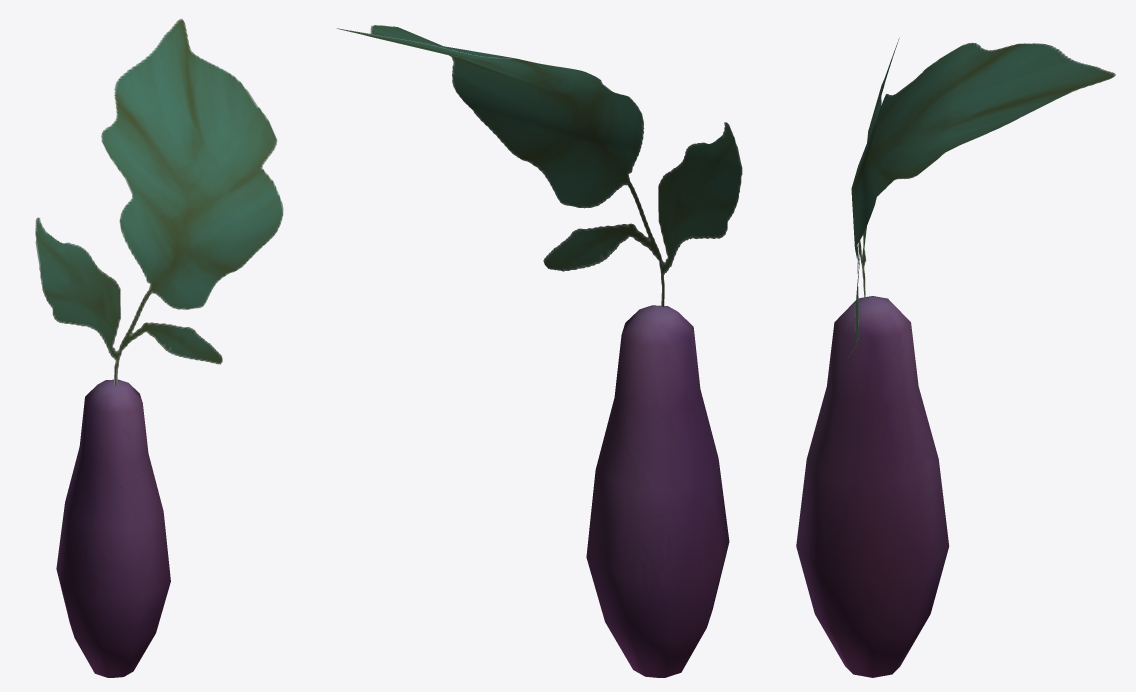
Rendered from SM_Eggplant.fbx.
3 renders of one model, left to right at view 1: azimuth 30°, elevation 25°; view 2: azimuth 150°, elevation 25°; view 3: azimuth 270°, elevation 25°, orthographic. The views are drawn at different scales.
Visible parts, largest first — view 1: Cylinder; view 2: Cylinder; view 3: Cylinder.
Boxes of the visible parts, box(x1,y1,x2,y2) form: Cylinder: box(35, 18, 283, 677); Cylinder: box(336, 25, 742, 677); Cylinder: box(796, 37, 1115, 677).
Bounding box in the file's own units: 80.88 × 147 × 61.33.
